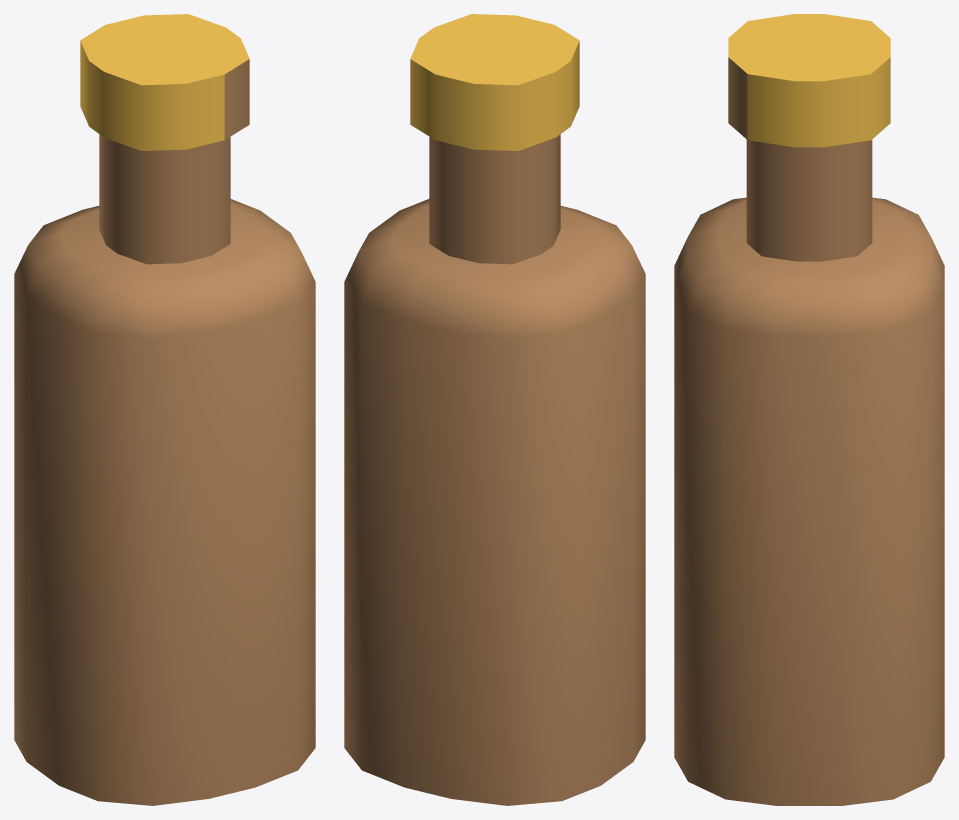
File: Bottle_1.fbx
The picture shows the model from 3 angles, left to right: view 1: azimuth 30°, elevation 25°; view 2: azimuth 150°, elevation 25°; view 3: azimuth 270°, elevation 25°; orthographic projection.
Visible parts, largest first — view 1: Bottle_1; view 2: Bottle_1; view 3: Bottle_1.
Boxes of the visible parts, bbox=[...] form: Bottle_1: bbox=[14, 14, 315, 805]; Bottle_1: bbox=[344, 14, 645, 805]; Bottle_1: bbox=[674, 14, 944, 805].
Size of the model in its own units: 35.92 by 97.56 by 34.22.
